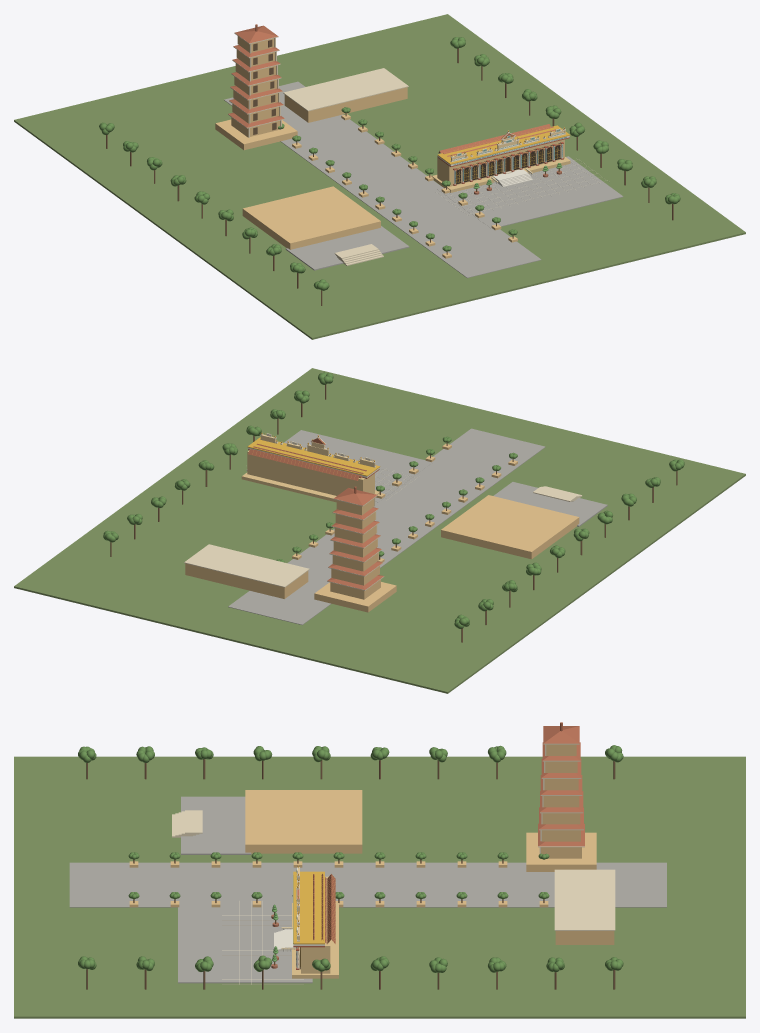
File: khuon-vien-chanh-dien-moi.glb
3 renders of one model, top to bottom at view 1: azimuth 30°, elevation 25°; view 2: azimuth 150°, elevation 25°; view 3: azimuth 270°, elevation 25°, orthographic. The views are drawn at different scales.
Parts seen in each view (by area): view 1: Nền khuôn viên, Sân hành lang dọc, Sân trước chính điện, Bệ khu tượng Di Lặc, Viền bệ tượng nằm, Sân trước khu Di Lặc, Bệ khu tượng nằm, Nền tháp, Viền mái trên, Khối kiến trúc, Nền chính điện; view 2: Nền khuôn viên, Sân hành lang dọc, Bệ khu tượng Di Lặc, Viền bệ tượng nằm, Sân trước chính điện, Khối kiến trúc, Sân trước khu Di Lặc, Bệ khu tượng nằm, Viền mái trên, Nền tháp, Mái ngói phía sau.002, Nền chính điện; view 3: Nền khuôn viên, Sân hành lang dọc, Sân trước chính điện, Bệ khu tượng Di Lặc, Viền bệ tượng nằm, Sân trước khu Di Lặc, Viền mái trên, Nền tháp, Nền chính điện, Bệ khu tượng nằm, Khối kiến trúc, Mái tháp.006 (+1 smaller).
Boxes of the visible parts, x1=… form: Nền khuôn viên: x1=14, y1=14, x2=745, y2=339; Sân hành lang dọc: x1=224, y1=81, x2=541, y2=278; Sân trước chính điện: x1=436, y1=156, x2=623, y2=228; Bệ khu tượng Di Lặc: x1=242, y1=186, x2=380, y2=249; Viền bệ tượng nằm: x1=283, y1=68, x2=408, y2=111; Sân trước khu Di Lặc: x1=285, y1=226, x2=409, y2=270; Bệ khu tượng nằm: x1=284, y1=87, x2=407, y2=122; Nền tháp: x1=215, y1=119, x2=297, y2=150; Viền mái trên: x1=437, y1=125, x2=570, y2=164; Khối kiến trúc: x1=437, y1=139, x2=564, y2=186; Nền chính điện: x1=431, y1=157, x2=570, y2=192; Nền khuôn viên: x1=14, y1=368, x2=745, y2=693; Sân hành lang dọc: x1=228, y1=428, x2=545, y2=625; Bệ khu tượng Di Lặc: x1=441, y1=495, x2=579, y2=559; Viền bệ tượng nằm: x1=184, y1=544, x2=309, y2=587; Sân trước chính điện: x1=246, y1=430, x2=432, y2=502; Khối kiến trúc: x1=247, y1=450, x2=374, y2=495; Sân trước khu Di Lặc: x1=493, y1=482, x2=607, y2=526; Bệ khu tượng nằm: x1=185, y1=563, x2=308, y2=598; Viền mái trên: x1=247, y1=437, x2=380, y2=476; Nền tháp: x1=314, y1=582, x2=396, y2=612; Mái ngói phía sau.002: x1=248, y1=449, x2=360, y2=480; Nền chính điện: x1=241, y1=472, x2=379, y2=502; Nền khuôn viên: x1=14, y1=756, x2=745, y2=1018; Sân hành lang dọc: x1=69, y1=862, x2=666, y2=907; Sân trước chính điện: x1=178, y1=903, x2=312, y2=983; Bệ khu tượng Di Lặc: x1=245, y1=790, x2=362, y2=853; Viền bệ tượng nằm: x1=554, y1=869, x2=615, y2=930; Sân trước khu Di Lặc: x1=181, y1=796, x2=251, y2=854; Viền mái trên: x1=293, y1=871, x2=324, y2=944; Nền tháp: x1=526, y1=832, x2=596, y2=871; Nền chính điện: x1=292, y1=903, x2=338, y2=978; Bệ khu tượng nằm: x1=555, y1=931, x2=614, y2=944; Khối kiến trúc: x1=301, y1=876, x2=330, y2=973; Mái tháp.006: x1=543, y1=726, x2=579, y2=743.
Bounding box in the file's own units: 105 × 25.68 × 125.
